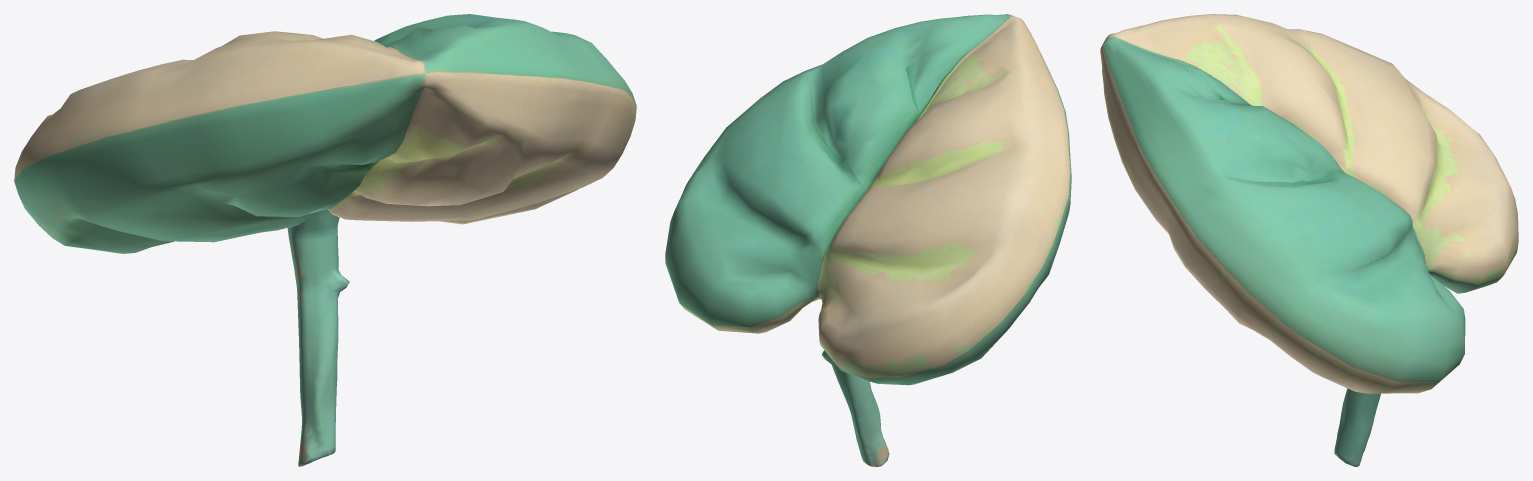
File: heart_halfmoon_v2_stem_v1.glb
3 renders of one model, left to right at view 1: azimuth 30°, elevation 25°; view 2: azimuth 150°, elevation 25°; view 3: azimuth 270°, elevation 25°, orthographic. The views are drawn at different scales.
Visible parts, largest first — view 1: GLTF_0, GLTF_1_1; view 2: GLTF_0, GLTF_1_1; view 3: GLTF_0, GLTF_1_1.
Part boxes in pixels (x1,y1,x2,y2): GLTF_0: (14, 14, 636, 253); GLTF_1_1: (287, 209, 349, 466); GLTF_0: (665, 14, 1071, 385); GLTF_1_1: (821, 304, 889, 466); GLTF_0: (1100, 14, 1518, 393); GLTF_1_1: (1334, 388, 1380, 466).
Bounding box in the file's own units: 1.97 × 1.84 × 1.69.
Materials: 2 (2 with a texture image).
